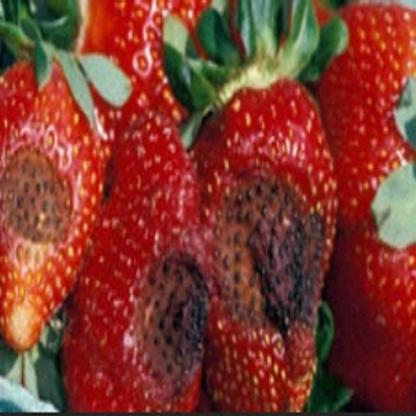Strawberry_Anthracnose_Fruit_Rot: (205, 169, 329, 340), (120, 248, 212, 402), (0, 140, 81, 249)
